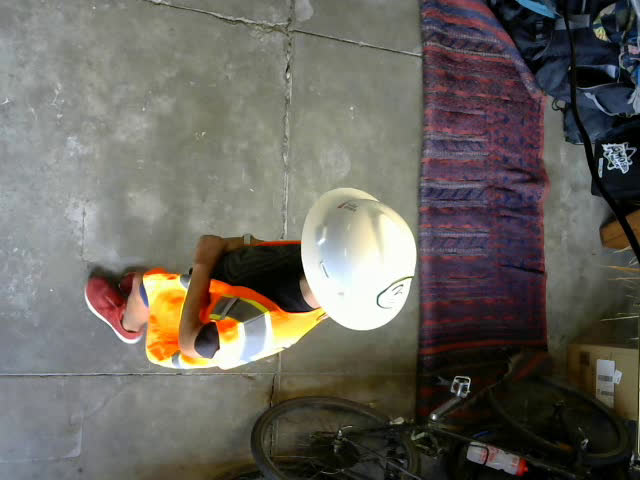three: (378, 276, 412, 308)
